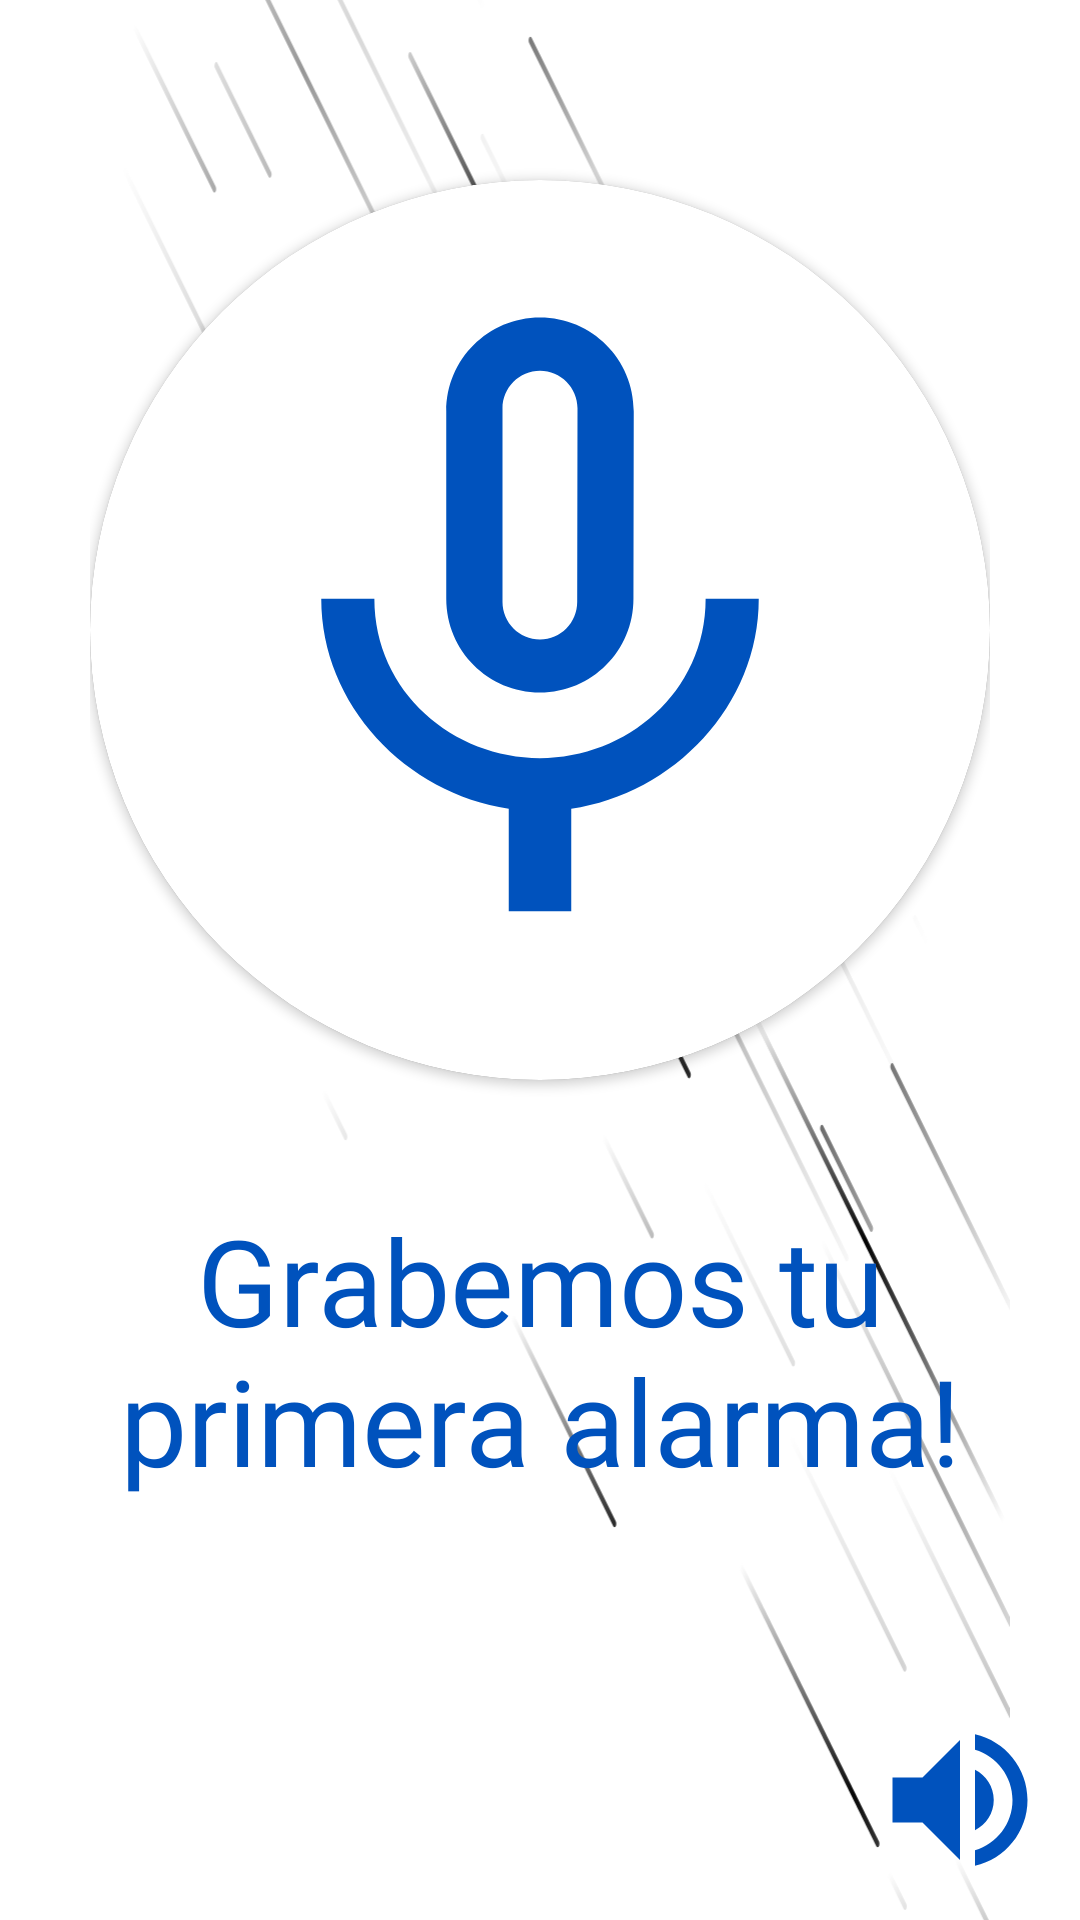

Icons on this 1080 x 1920 Android screen, each with the point to tap as (x,y):
volume up: (960,1800)
